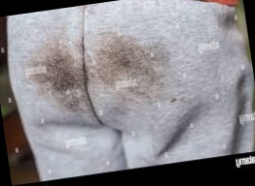earth: (96, 46, 147, 81), (45, 51, 80, 100)
